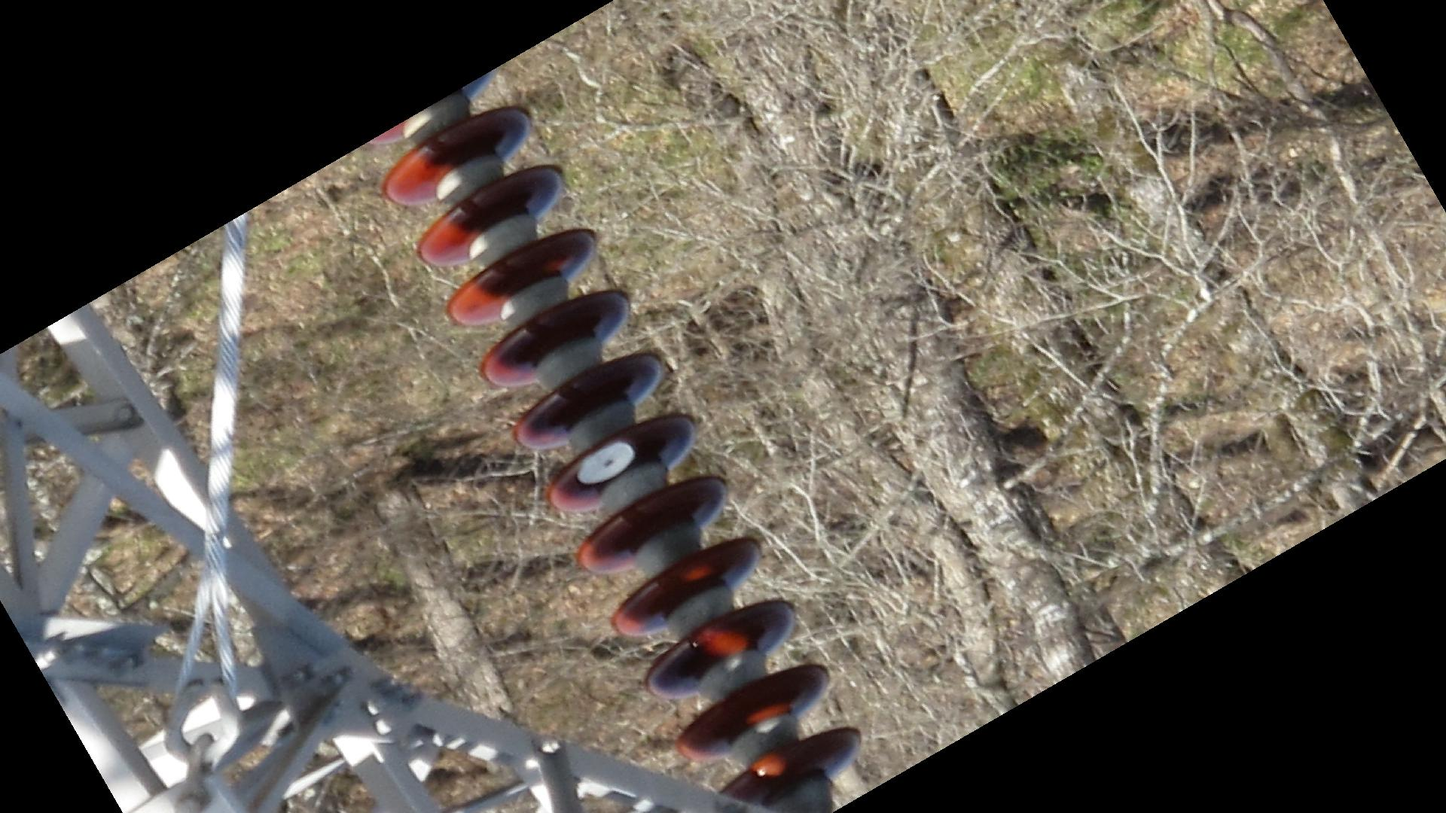insulator: (361, 64, 871, 813)
insulator_breakage: (572, 436, 639, 491)
